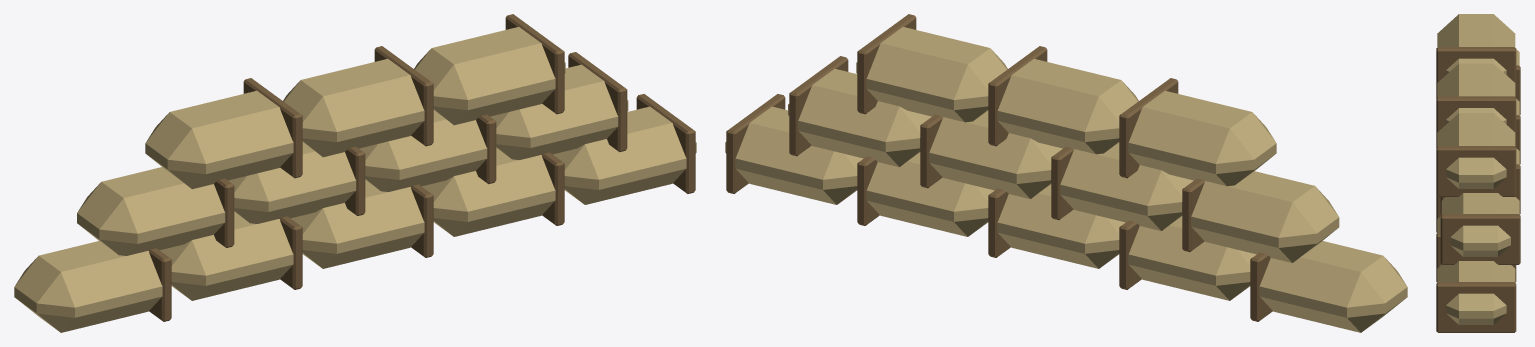
Rendered from Sandbags.fbx.
3 views of the same model, side by side, from view 1: azimuth 30°, elevation 25°; view 2: azimuth 150°, elevation 25°; view 3: azimuth 270°, elevation 25° (orthographic). The views are drawn at different scales.
Parts seen in each view (by area): view 1: Sandbags; view 2: Sandbags; view 3: Sandbags.
Part boxes in pixels (x1=…): Sandbags: x1=14, y1=14, x2=696, y2=332; Sandbags: x1=725, y1=14, x2=1407, y2=332; Sandbags: x1=1436, y1=14, x2=1520, y2=332.
Bounding box in the file's own units: 6.8 × 1.72 × 0.97.
Materials: 1 (1 with a texture image).
